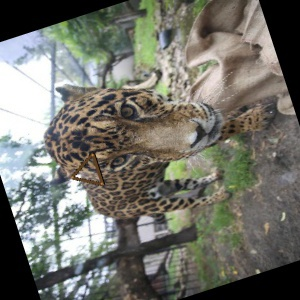triangle: (67, 150, 110, 190)
